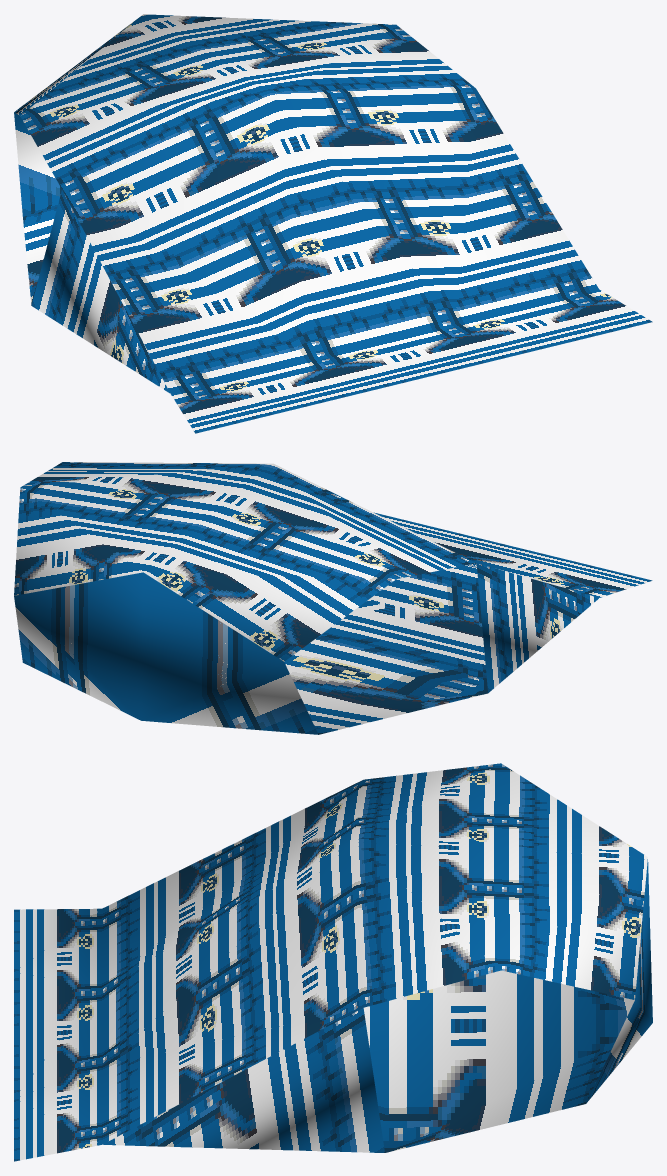
File: 2464top000_c.gltf
The picture shows the model from 3 angles, top to bottom: view 1: azimuth 30°, elevation 25°; view 2: azimuth 150°, elevation 25°; view 3: azimuth 270°, elevation 25°; orthographic projection. The views are drawn at different scales.
Visible parts, largest first — view 1: 2464top000_c; view 2: 2464top000_c; view 3: 2464top000_c.
Part boxes in pixels (x1,y1,x2,y2): 2464top000_c: [14, 14, 652, 433]; 2464top000_c: [14, 462, 652, 734]; 2464top000_c: [14, 763, 652, 1161].
Bounding box in the file's own units: 0.7598 × 0.2717 × 0.814.
1 material, 1 textured.
